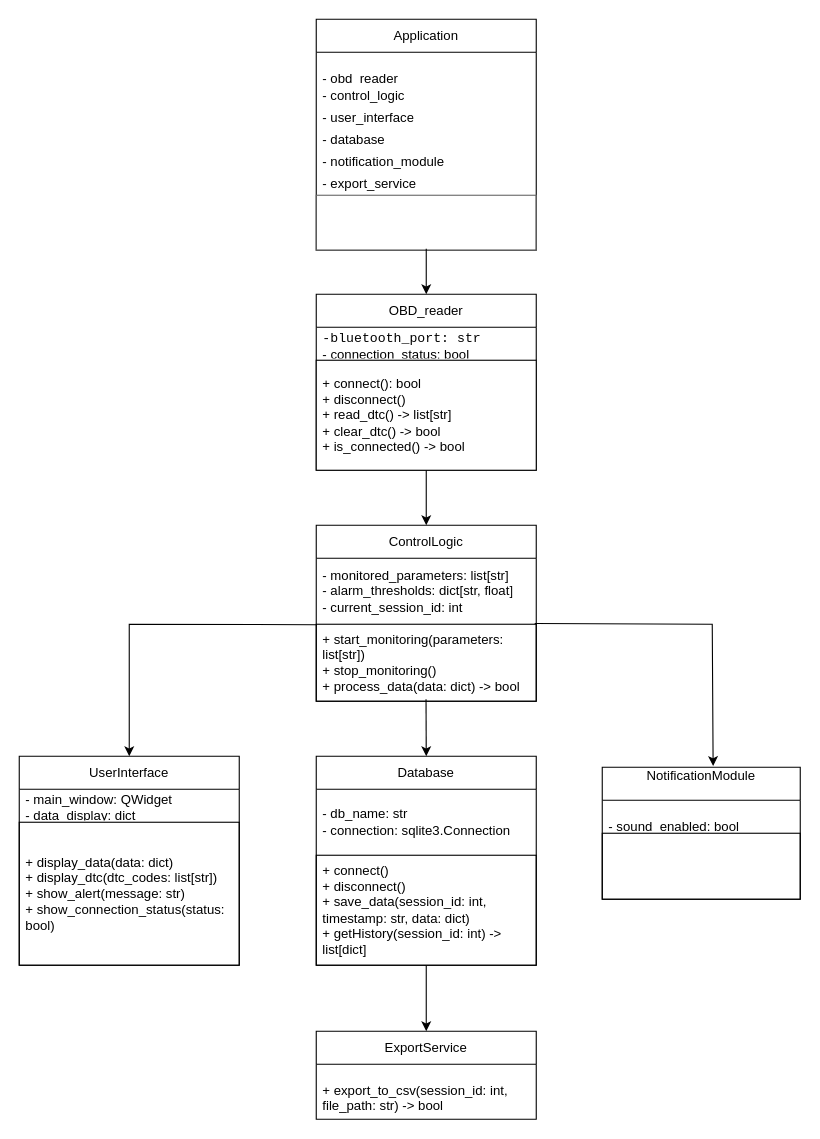
Some shapes in this 820 by 1139 pixel diagram are drawn without their labels. Each missing label, with the centre of its shape:
"+ init () + startapplication() + stopapplication()" goes at (x=425, y=222).
"+ notify_visual(message: str) + notify_sound(alert_type: str)" goes at (x=700, y=865).
